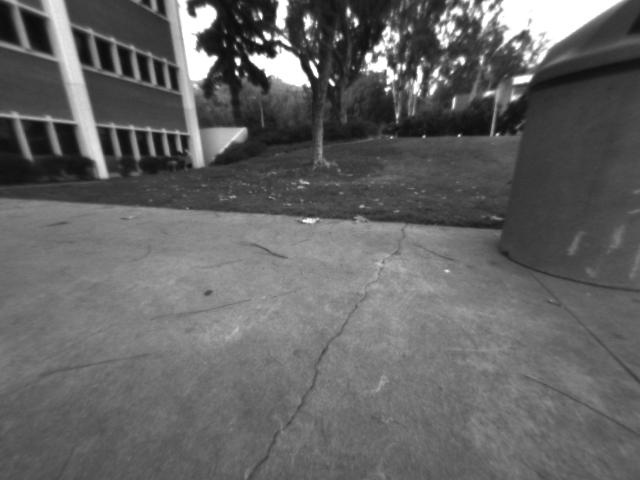trashcan: (503, 1, 640, 293)
